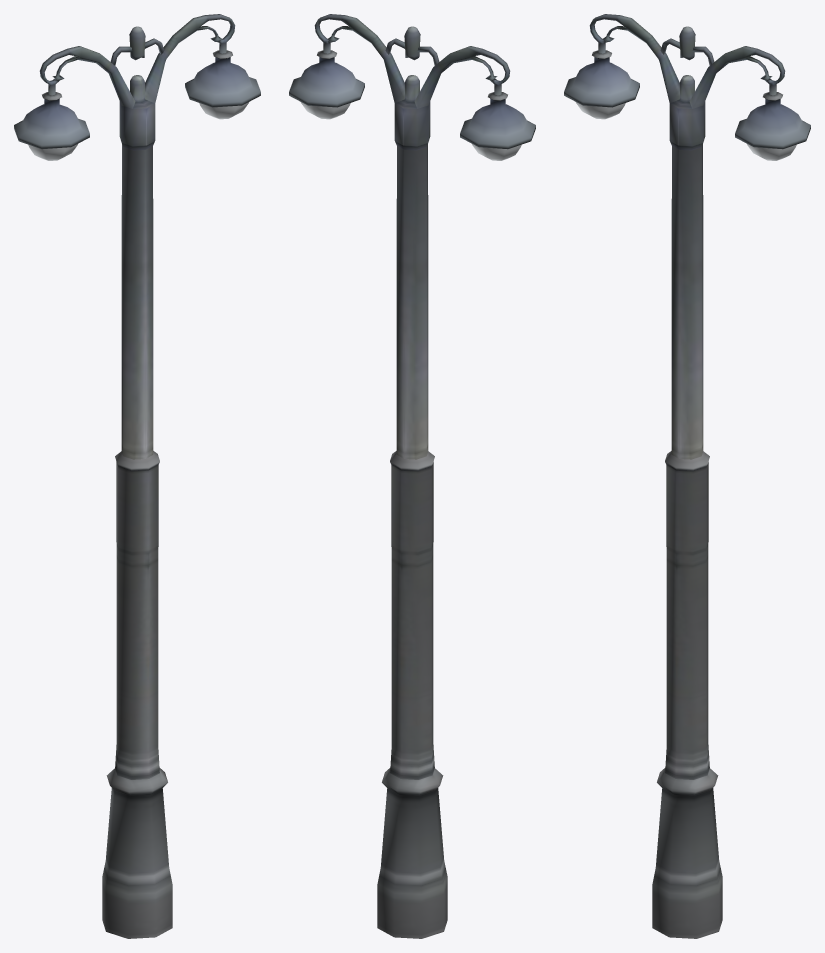
File: moscow_lamp_post.glb
3 renders of one model, left to right at view 1: azimuth 30°, elevation 25°; view 2: azimuth 150°, elevation 25°; view 3: azimuth 330°, elevation 25°, orthographic.
Visible parts, largest first — view 1: Cylinder; view 2: Cylinder; view 3: Cylinder.
Part boxes in pixels (left/top/right/bottom): Cylinder: left=14, top=14, right=260, bottom=938; Cylinder: left=289, top=14, right=535, bottom=938; Cylinder: left=564, top=14, right=810, bottom=938.
Size of the model in its own units: 1.76 by 6.35 by 0.492.
Materials: 1 (1 with a texture image).
